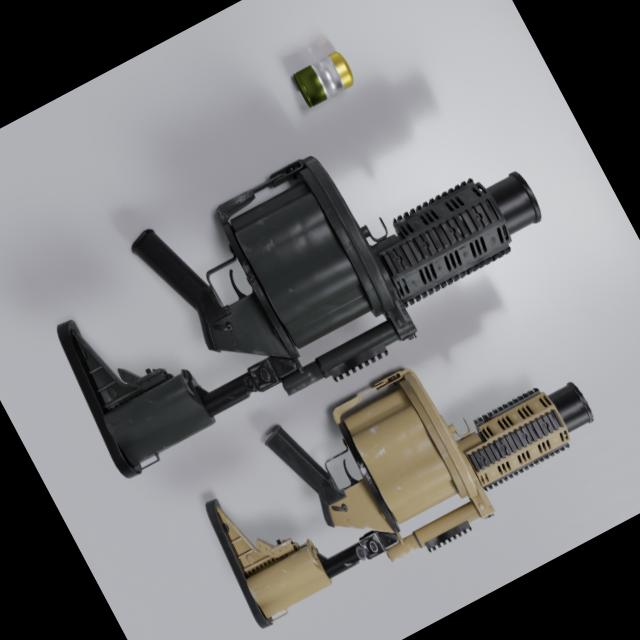Weapon: (19, 59, 570, 494), (171, 287, 626, 640)
